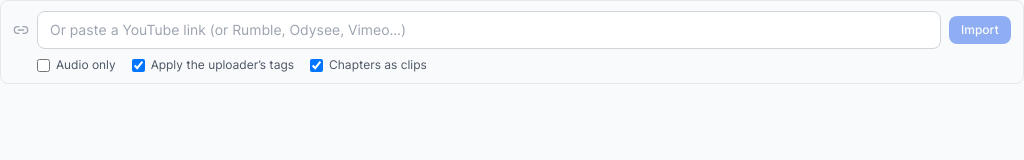
Test: UrlImport › confirms, clears the box, and tells the activity feed
This screenshot has width=1024, height=160.
In the field named "Link to import": coordinates (489, 30) [37,11,941,49], type "https://youtu.be/abc123"
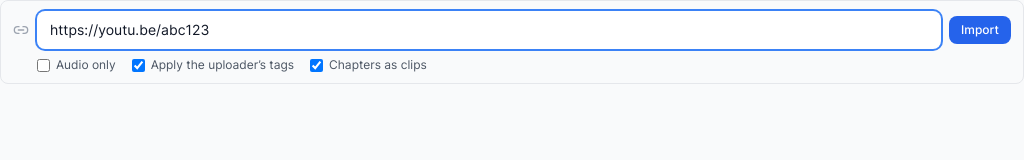
Click the button "Import": coordinates (980, 30) [949,16,1011,44]
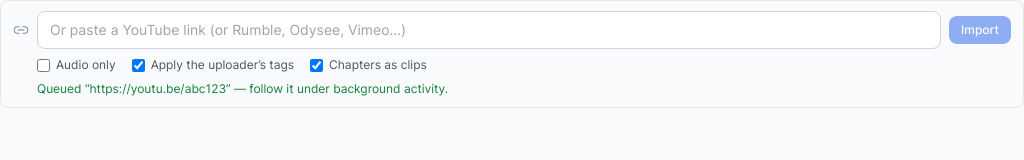
Now the message shows "Queued “https://youtu.be/abc123”", box [37,81,448,96]
Now the field named "Link to import" is empty, box [37,11,941,49]
